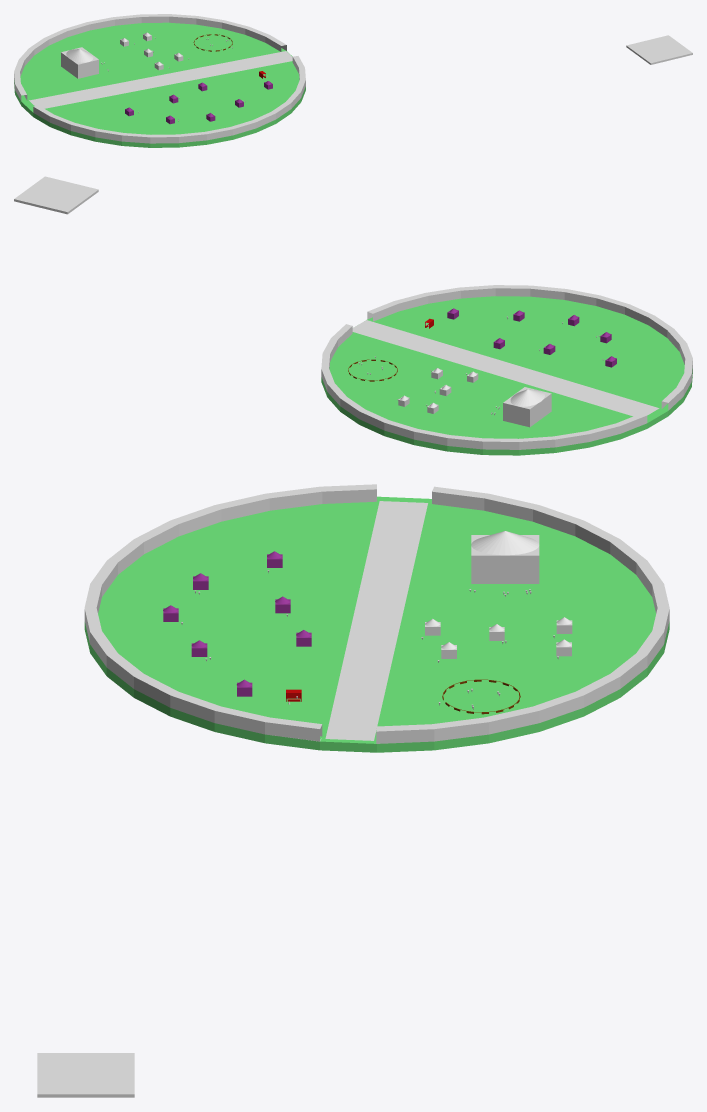
File: Village_Blockout.fbx
3 renders of one model, top to bottom at view 1: azimuth 30°, elevation 25°; view 2: azimuth 150°, elevation 25°; view 3: azimuth 270°, elevation 25°, orthographic. The views are drawn at different scales.
Parts seen in each view (by area): view 1: Village_Radius, Fence, Street, Cube, Village_Inn; view 2: Village_Radius, Fence, Street, Cube, Village_Inn; view 3: Village_Radius, Fence, Street, Cube, Village_Inn.
Part boxes in pixels (x1,y1,x2,y2): Village_Radius: (14, 22, 305, 147); Fence: (14, 14, 305, 143); Street: (29, 51, 292, 108); Cube: (626, 35, 692, 64); Village_Inn: (61, 47, 98, 78); Village_Radius: (321, 296, 692, 455); Fence: (321, 285, 692, 449); Street: (352, 320, 659, 416); Cube: (14, 176, 98, 214); Village_Inn: (503, 387, 551, 427); Village_Radius: (84, 496, 669, 752); Fence: (84, 484, 669, 743); Street: (325, 501, 427, 740); Cube: (37, 1053, 134, 1097); Village_Inn: (471, 531, 539, 583).
Bounding box in the file's own units: 68047 × 4669 × 32423.
